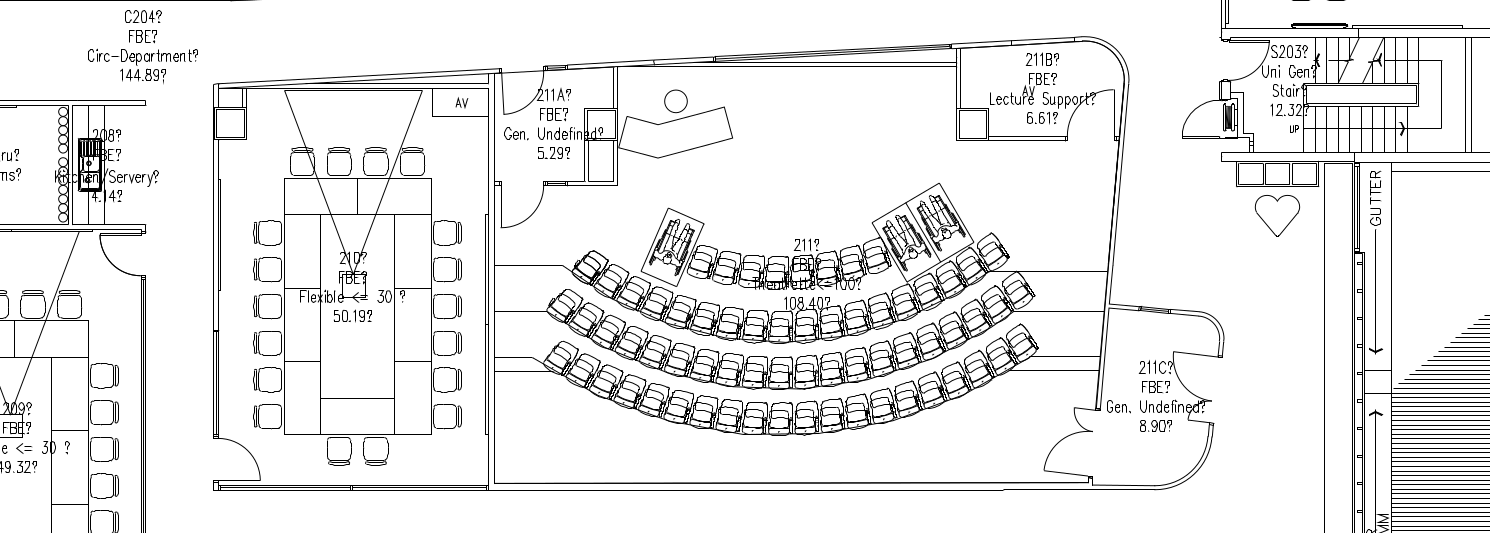door: (1033, 400, 1098, 478), (1155, 349, 1220, 427), (1063, 81, 1117, 142), (496, 181, 550, 236), (499, 67, 553, 122), (94, 232, 148, 287), (210, 429, 264, 484), (1222, 38, 1272, 87), (1175, 95, 1225, 144)
